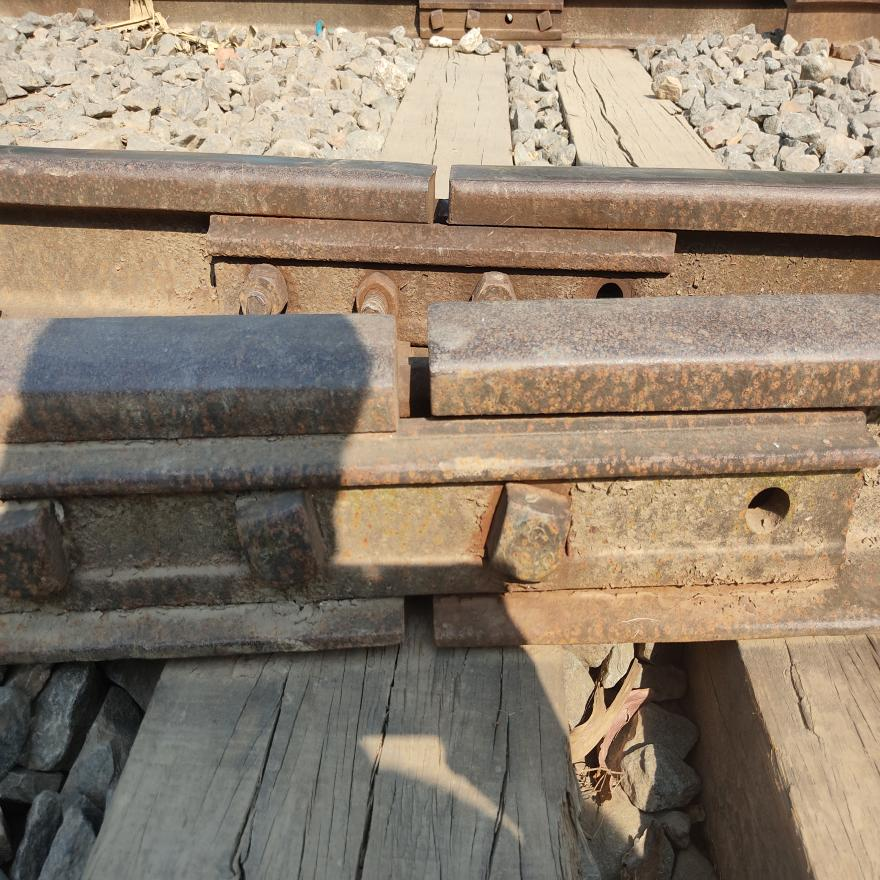railway-gap: (344, 302, 473, 443), (398, 151, 484, 244), (382, 576, 462, 667)
